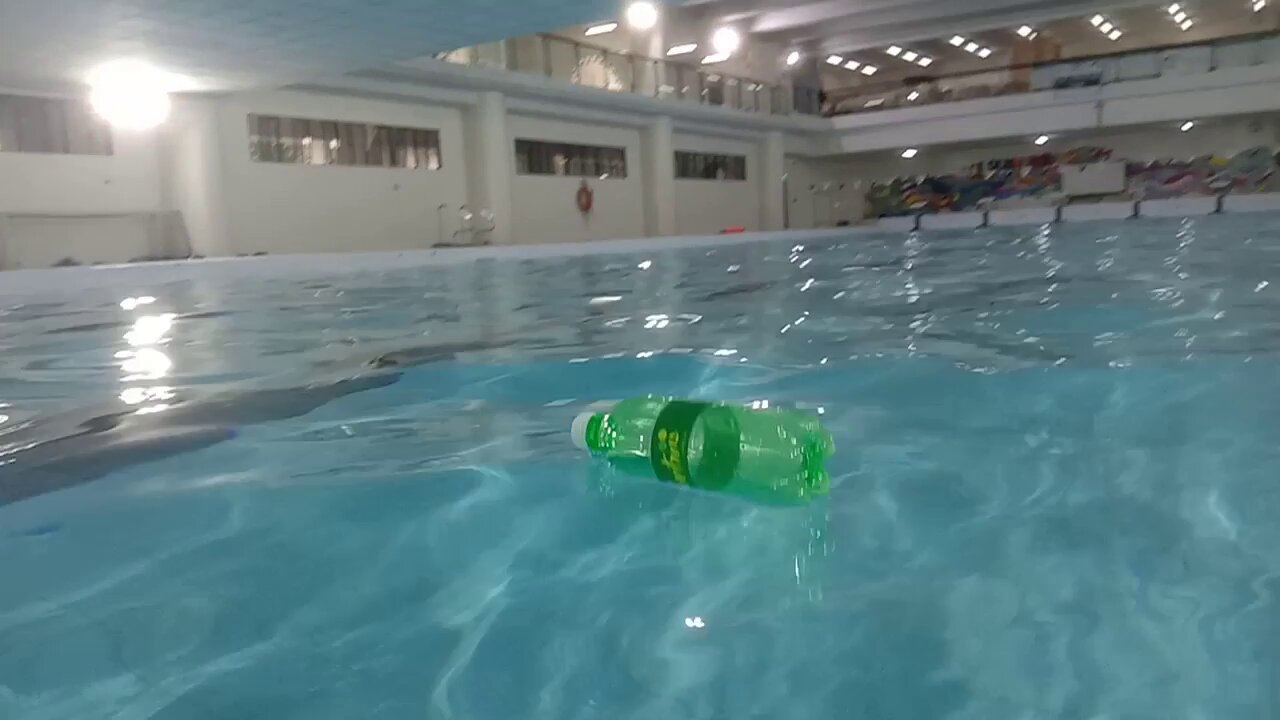plastic_bottle: (572, 399, 836, 506)
